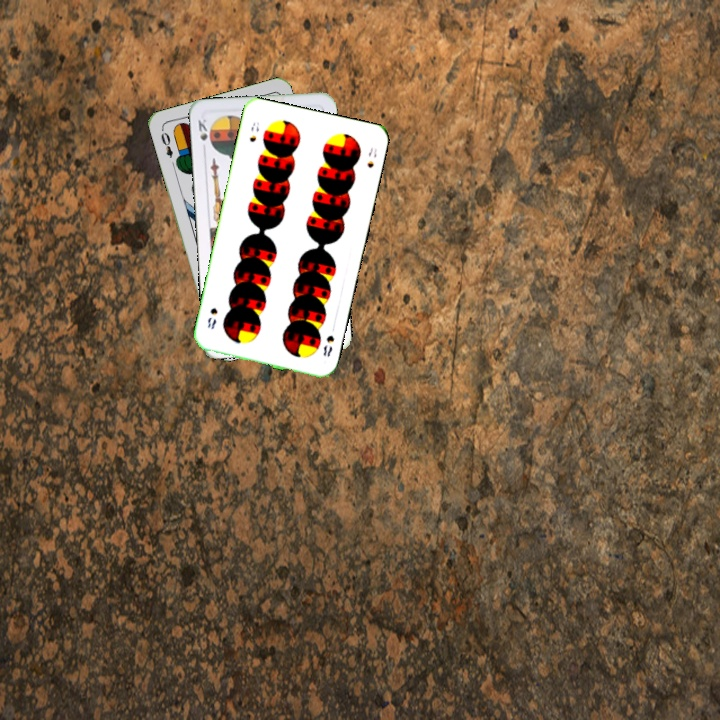EO: (157, 128, 176, 160)
S8: (319, 331, 337, 359), (245, 118, 262, 145)
SK: (194, 115, 210, 154)
